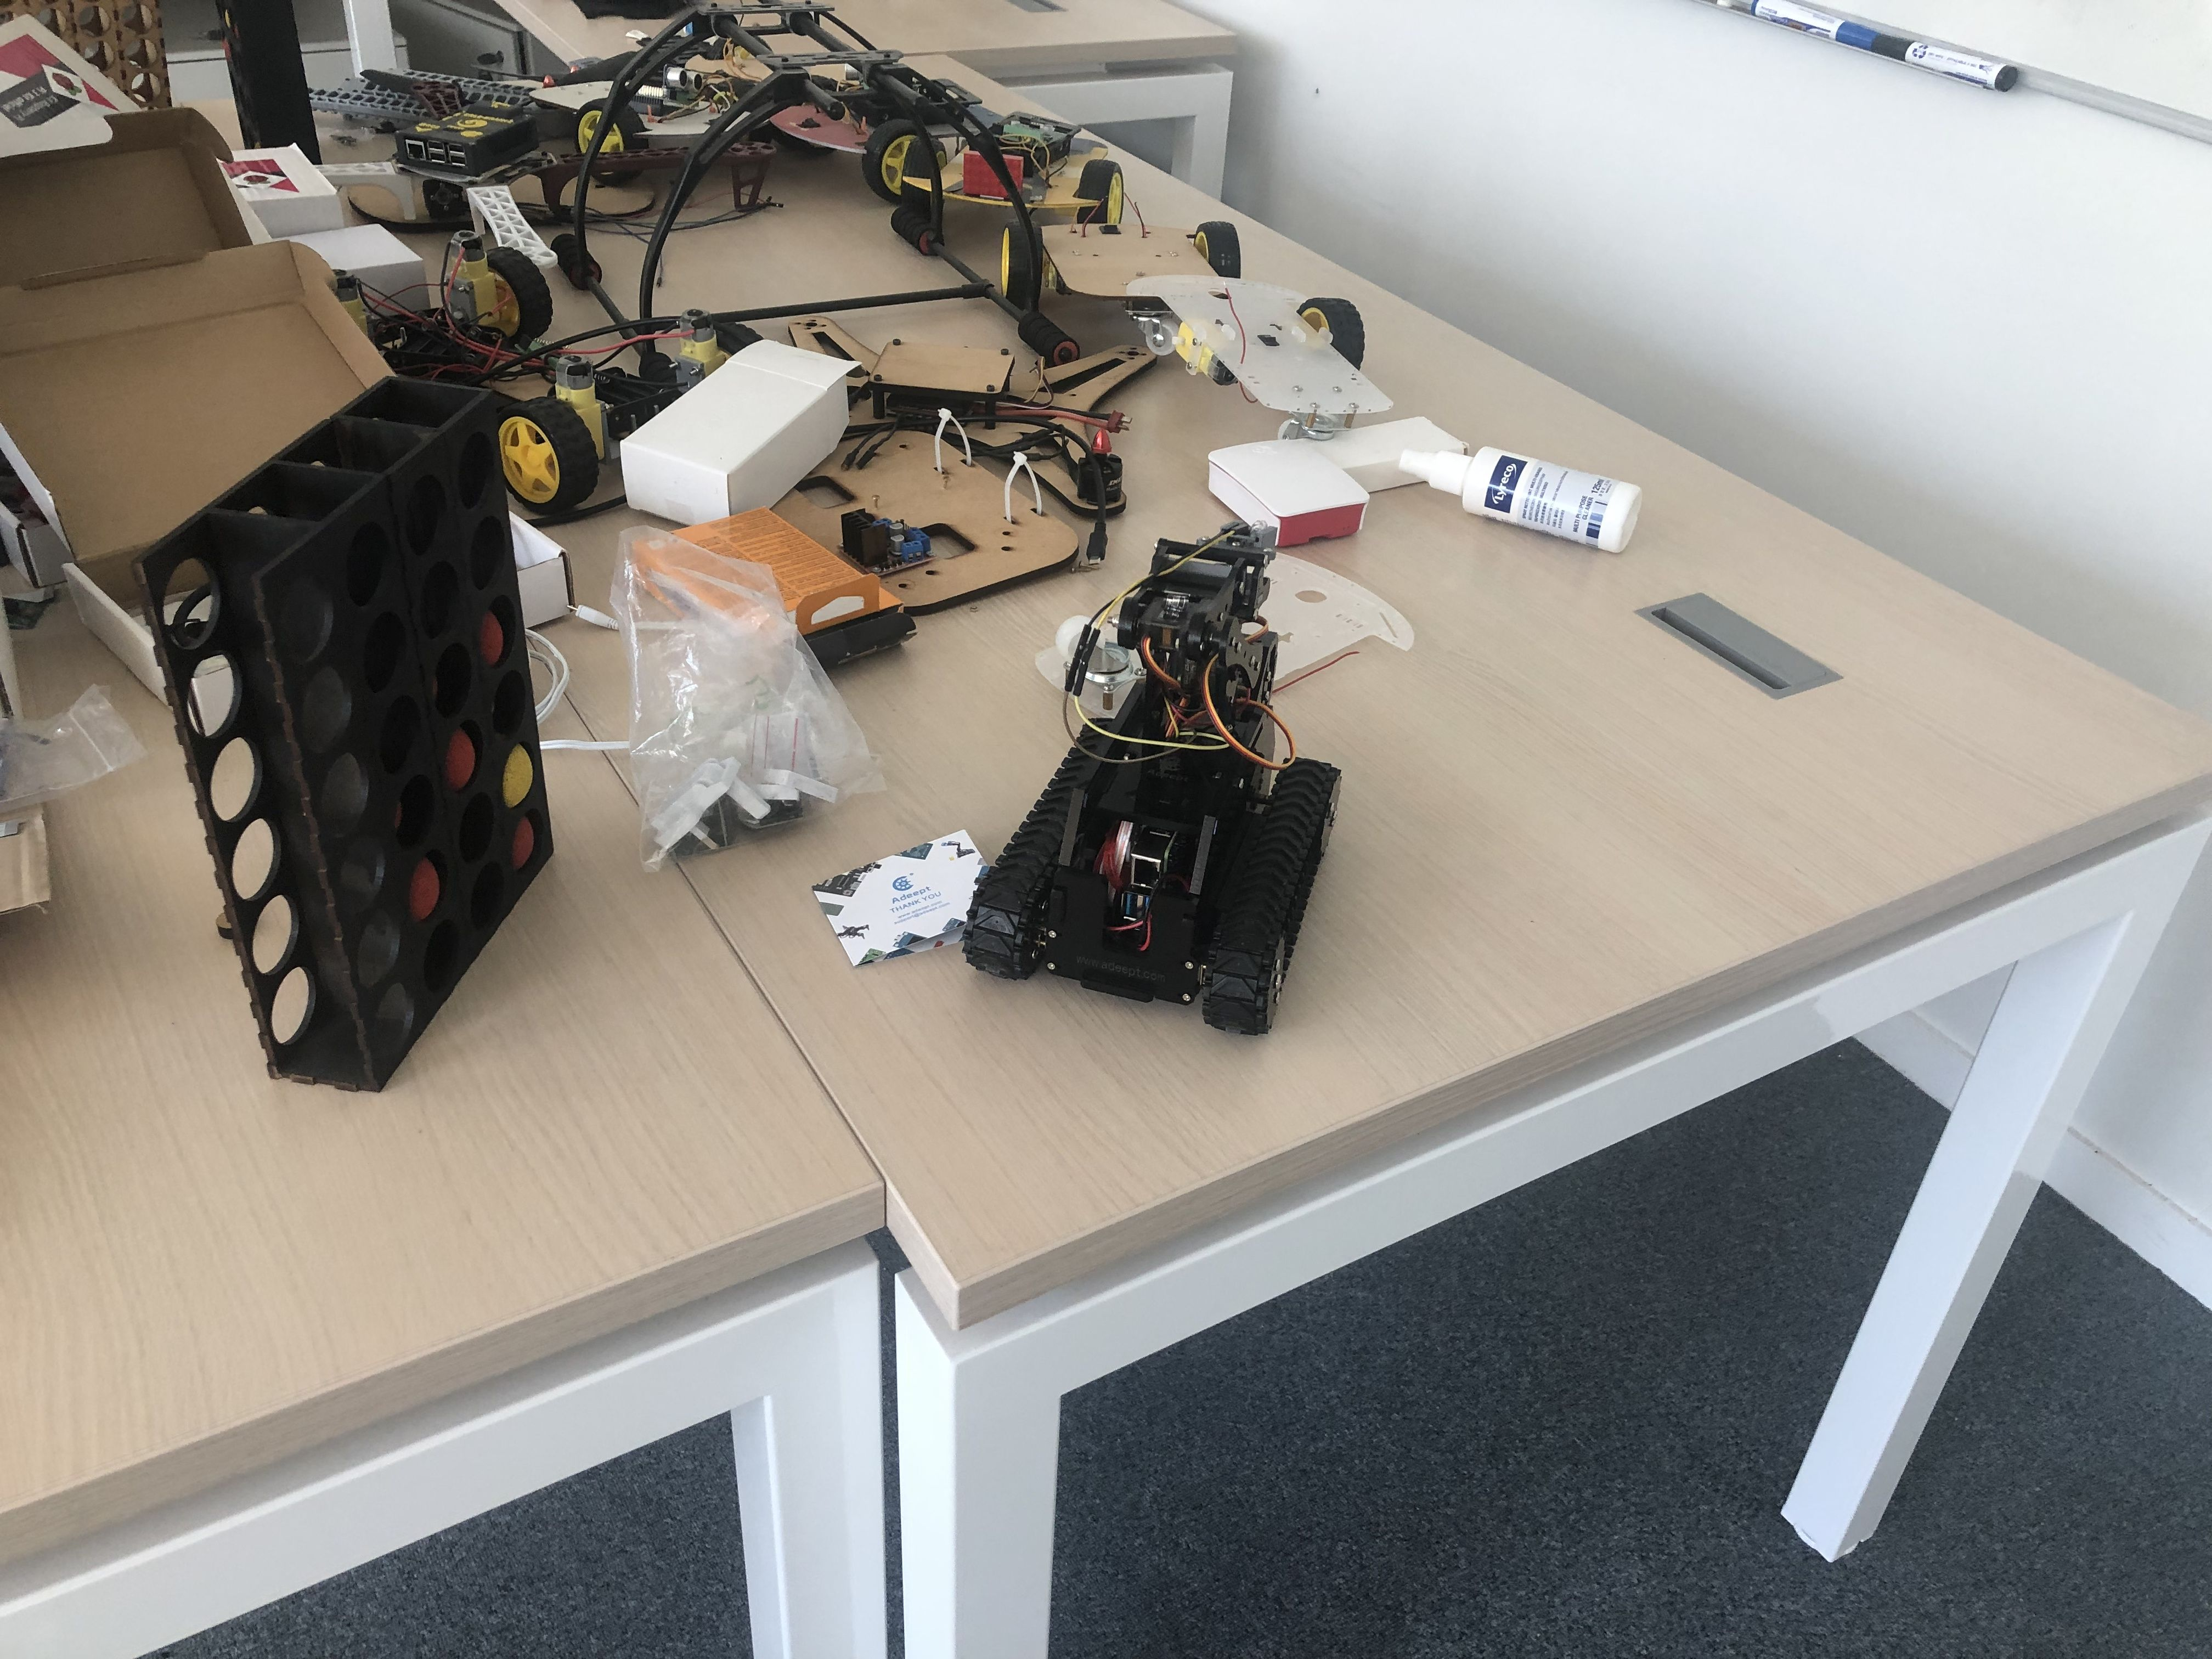rasptank: (958, 509, 1366, 1046)
